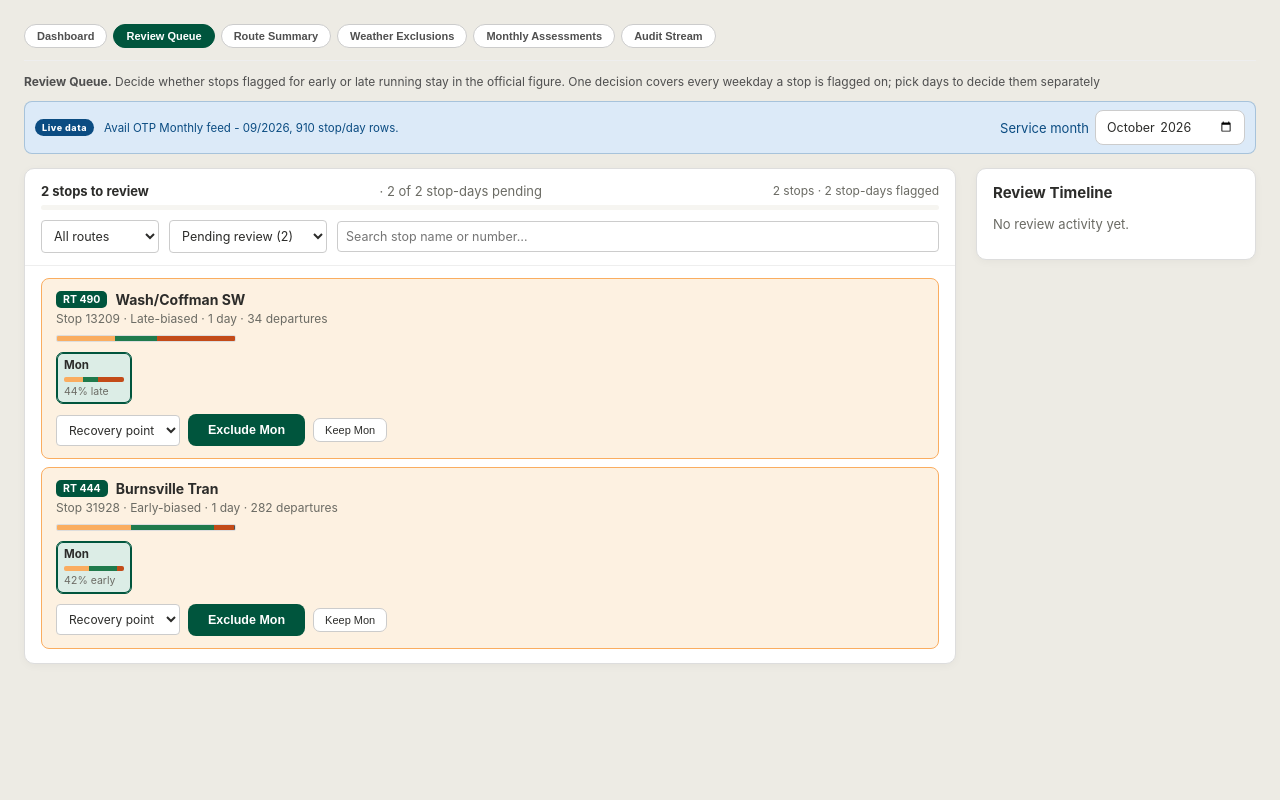
Test: approving a weather day › offers Approve on a recorded day, and says what approving took out
Click the button "Weather Exclusions": (402, 36) [337,24,467,48]
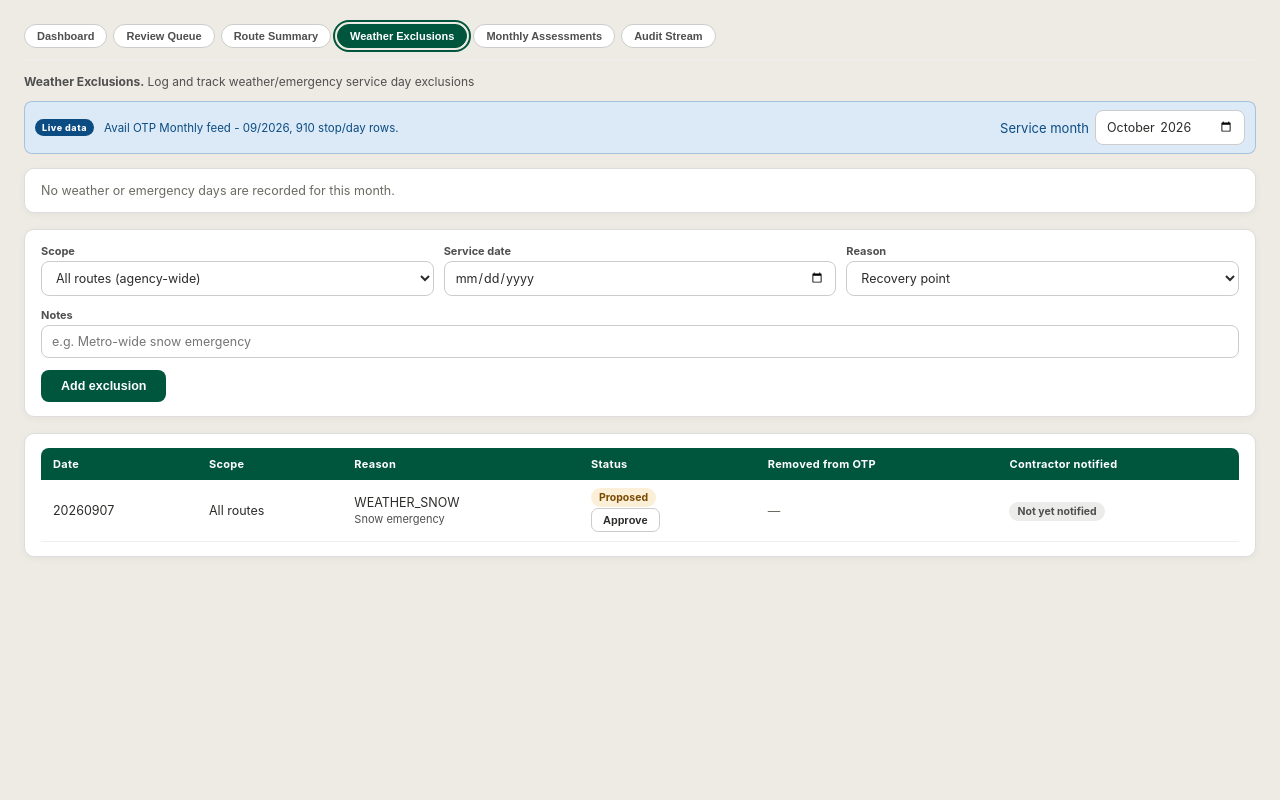
Click the button "Approve": (625, 520) [591,508,660,532]
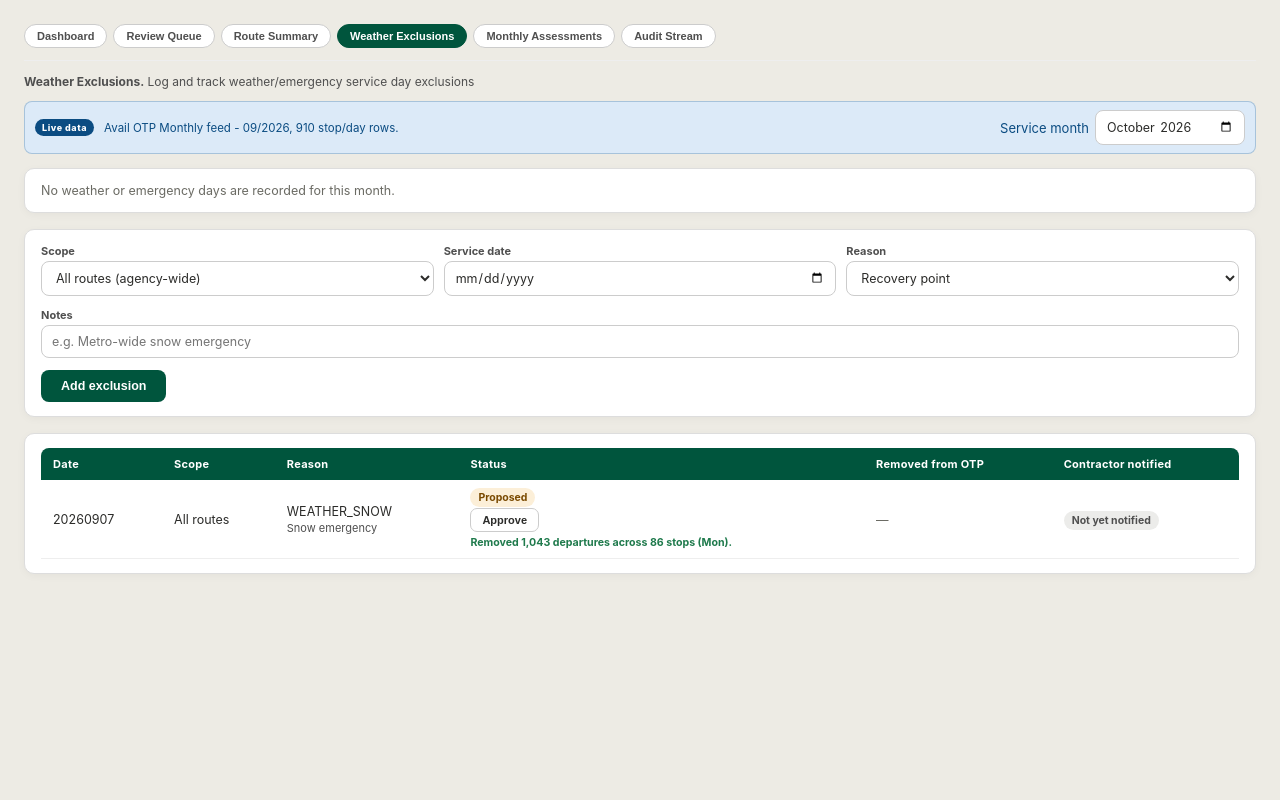
Result: the text "Removed 1,043 departures across 86 stops (Mon)." is shown at [470,536,732,549]
